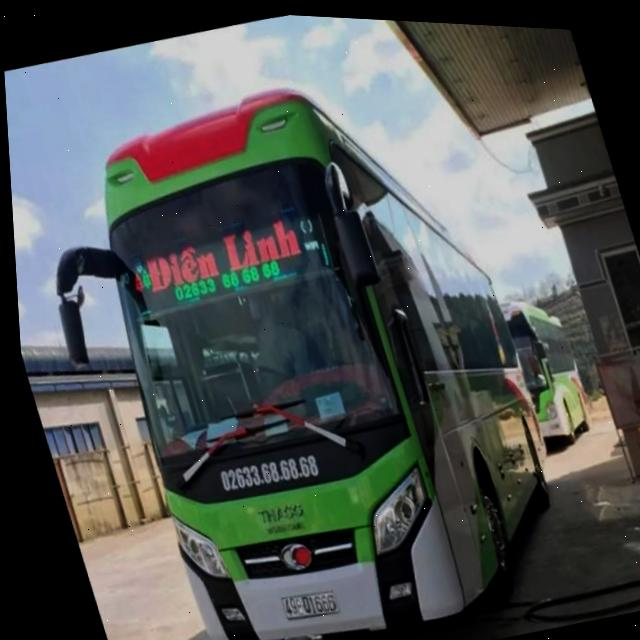car: (17, 28, 600, 640)
plate: (209, 440, 330, 508), (270, 570, 349, 632)
